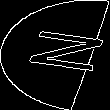N_E: (7, 30, 103, 80)
